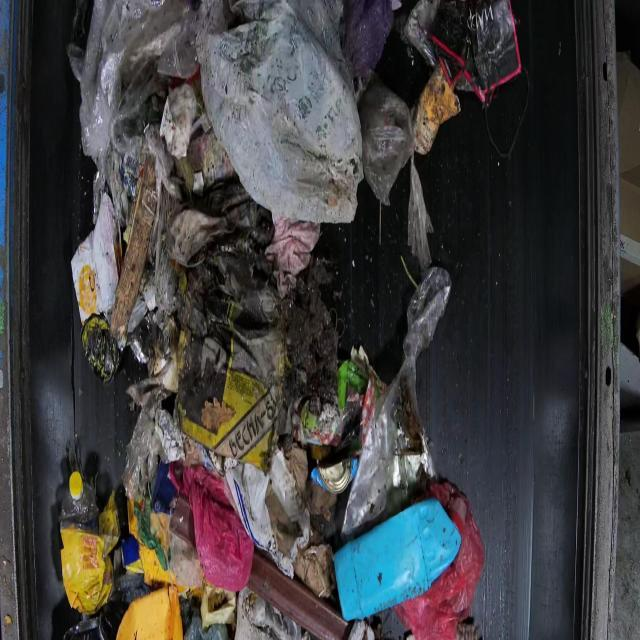cups: (331, 497, 462, 622)
other-trash: (56, 0, 520, 639)
